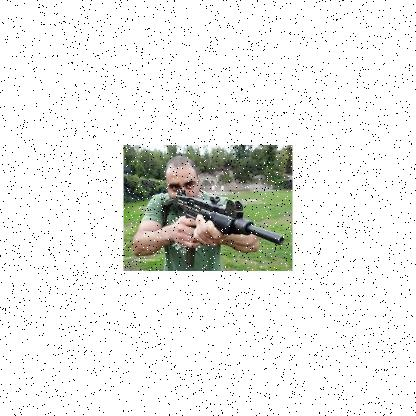gun: (158, 192, 284, 266)
